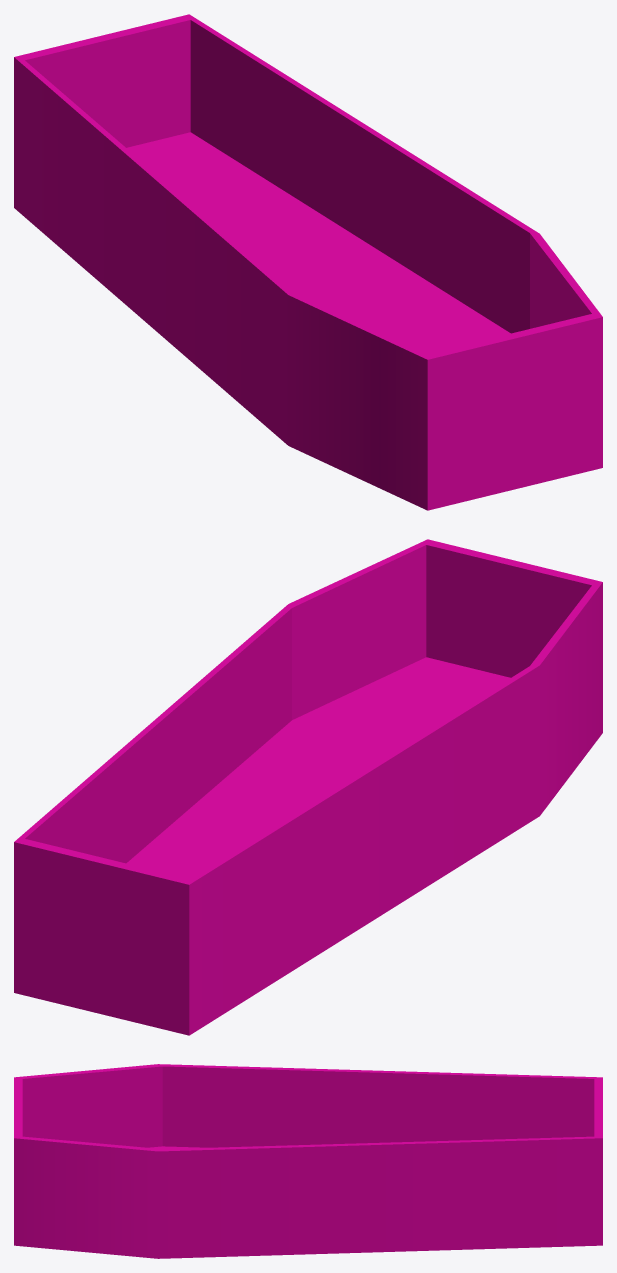
The model's file is Coffin.fbx.
The picture shows the model from 3 angles, top to bottom: view 1: azimuth 30°, elevation 25°; view 2: azimuth 150°, elevation 25°; view 3: azimuth 270°, elevation 25°; orthographic projection. The views are drawn at different scales.
Visible parts, largest first — view 1: Coffin; view 2: Coffin; view 3: Coffin.
Part boxes in pixels (x1=…): Coffin: x1=14, y1=14, x2=602, y2=510; Coffin: x1=14, y1=539, x2=602, y2=1035; Coffin: x1=14, y1=1064, x2=602, y2=1258.
Size of the model in its own units: 60.07 by 34.43 by 171.
